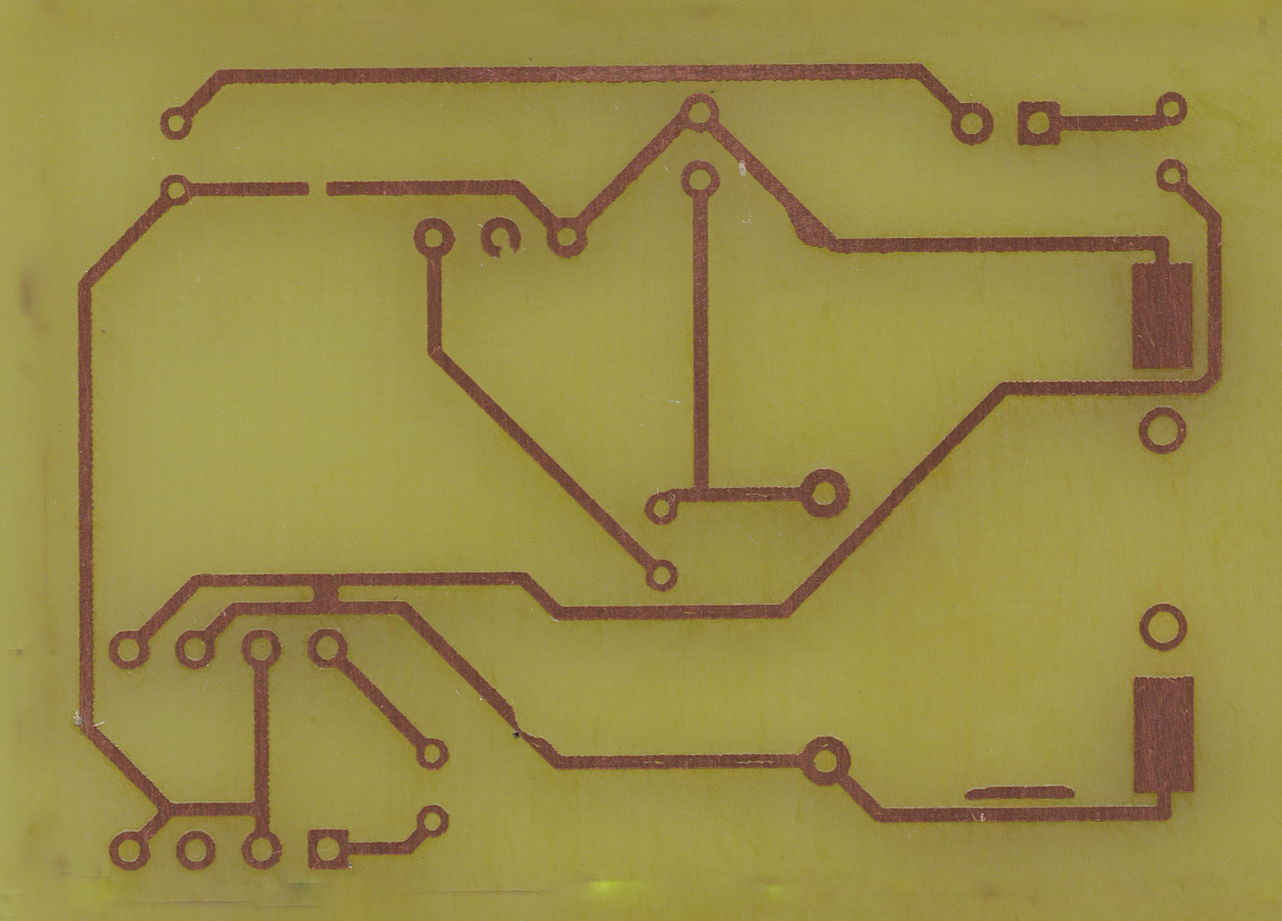missing_hole: (477, 215, 524, 262)
mouse_bite: (503, 703, 550, 747)
open_circuit: (295, 177, 339, 201)
short: (303, 570, 349, 619)
spur: (787, 206, 831, 259)
spurious_copper: (964, 780, 1077, 803)
